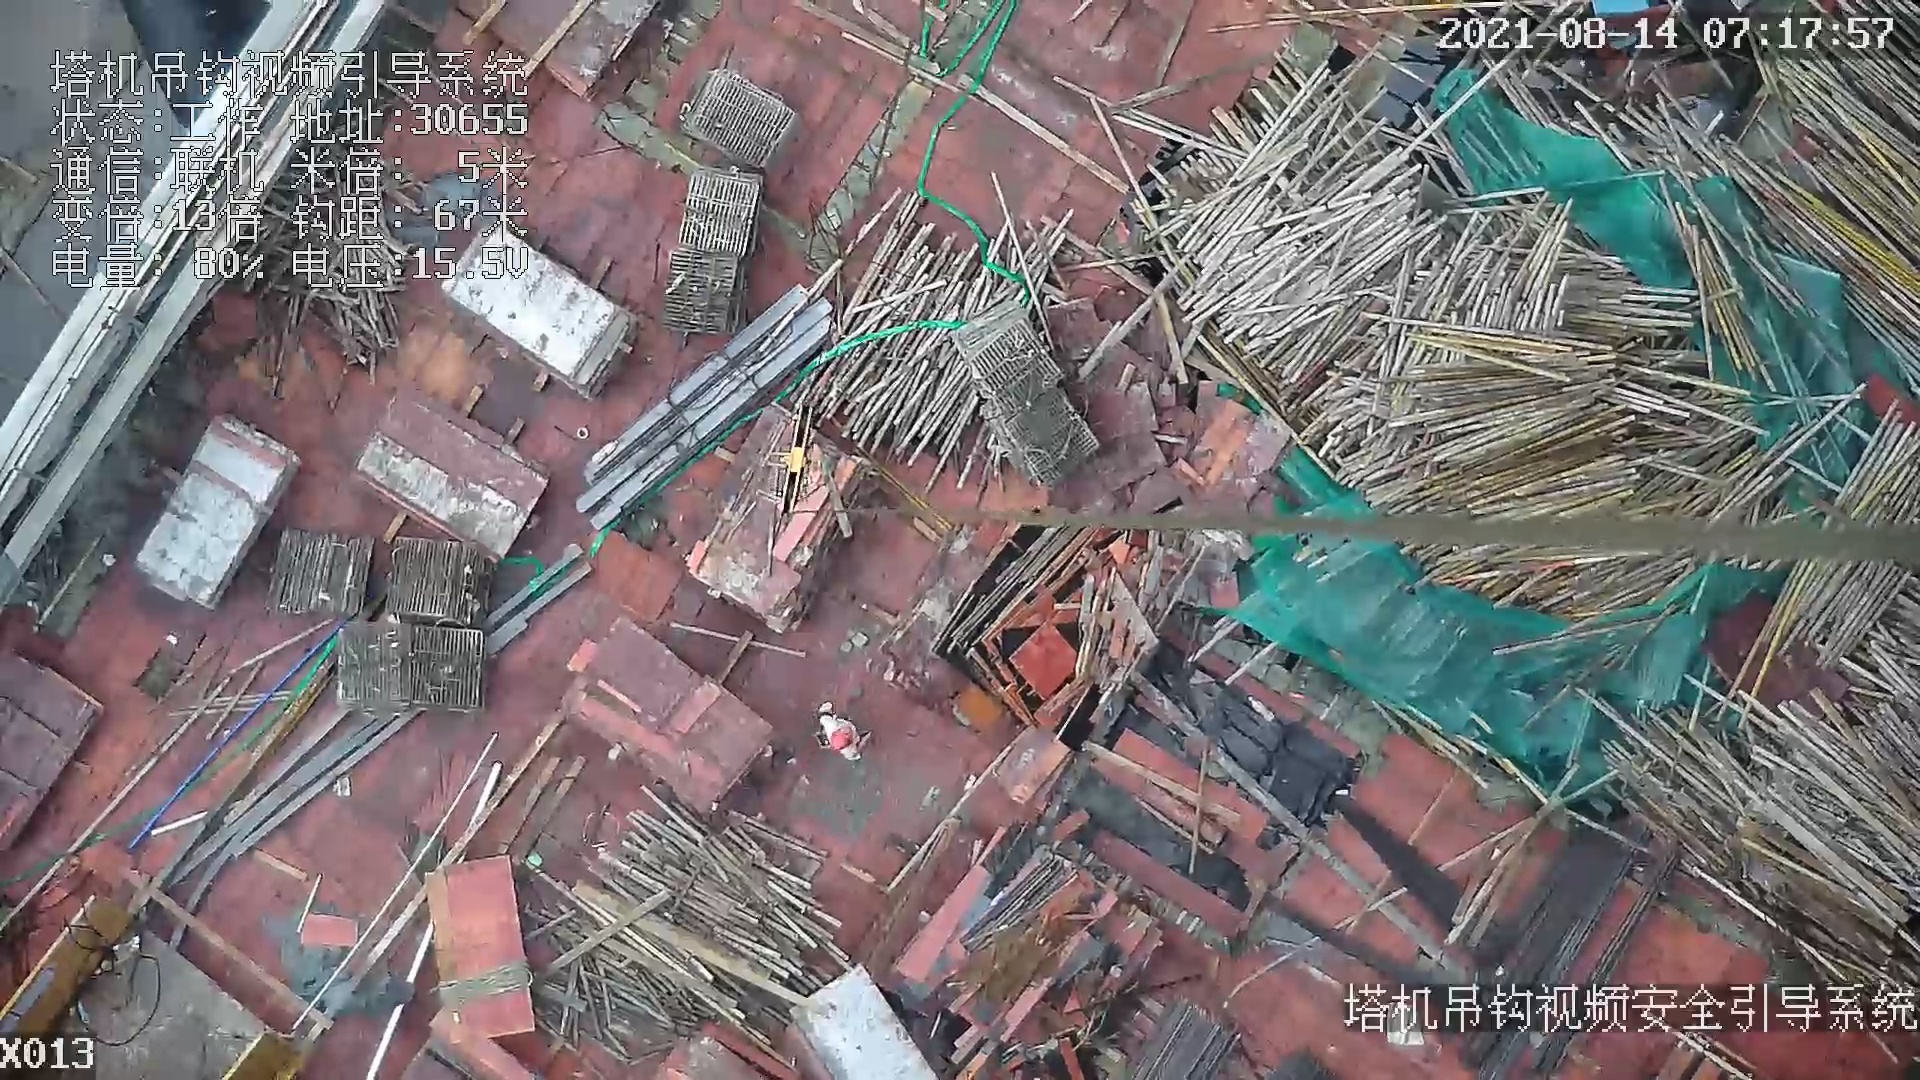helmet: (833, 722, 848, 753)
hook: (760, 399, 817, 526)
person: (806, 701, 876, 767)
